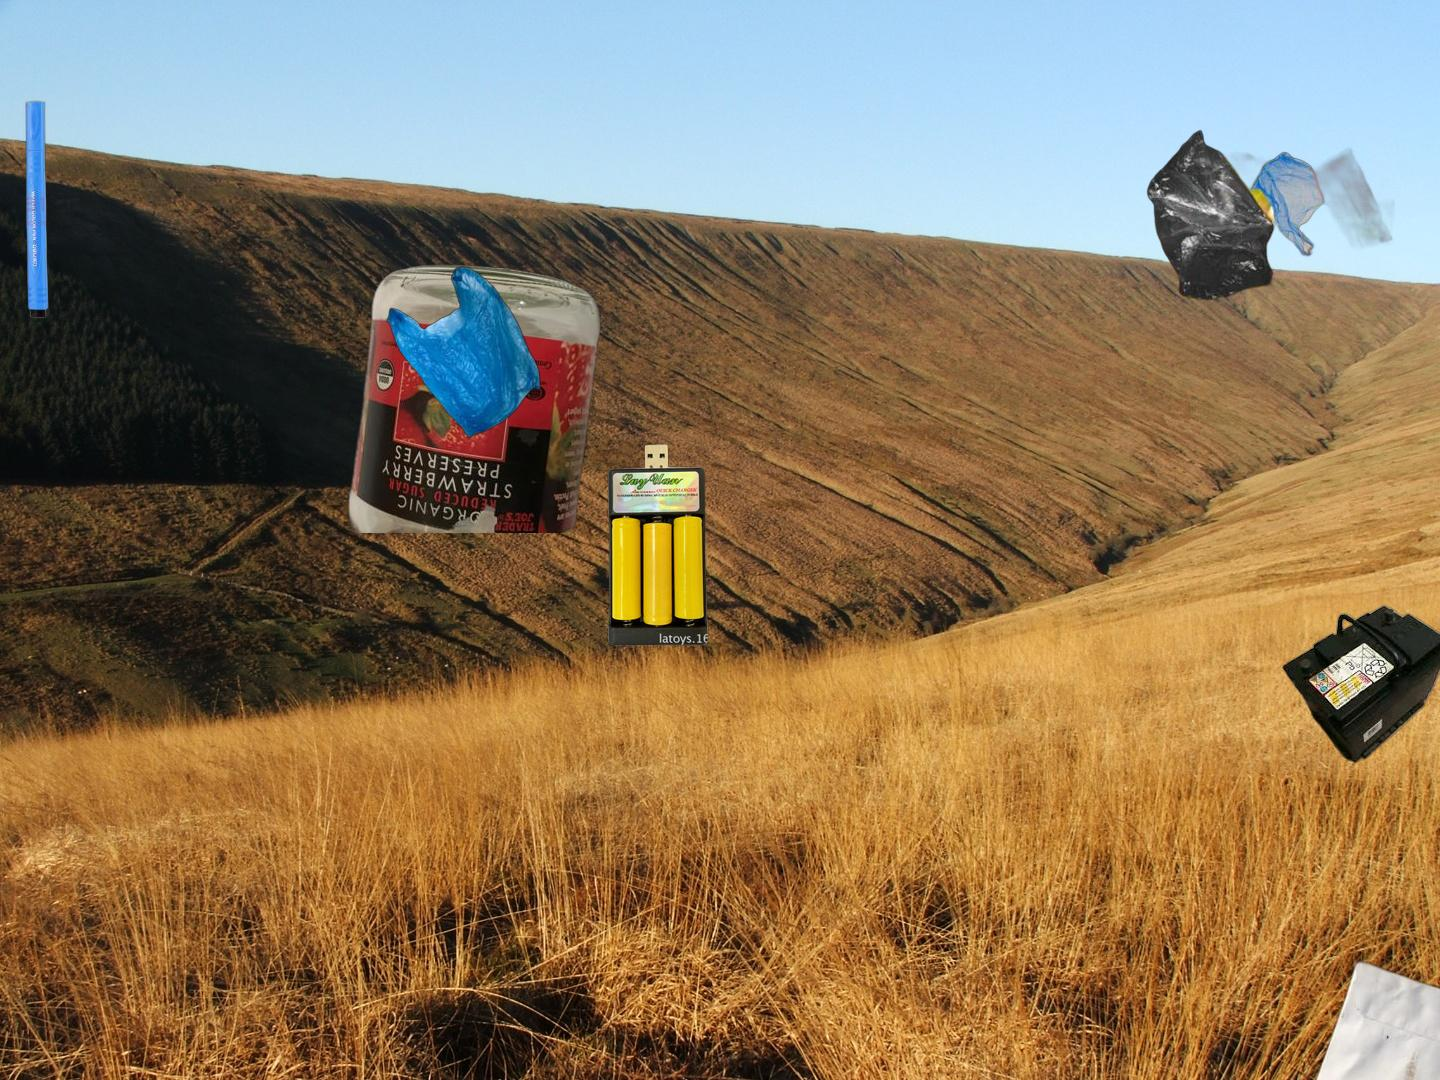battery: (1280, 604, 1440, 766), (605, 441, 711, 648)
glass: (344, 263, 605, 533)
paper: (1302, 956, 1440, 1080)
penholder: (23, 99, 91, 319)
plastic-bag: (1144, 128, 1395, 303), (384, 264, 542, 439)
